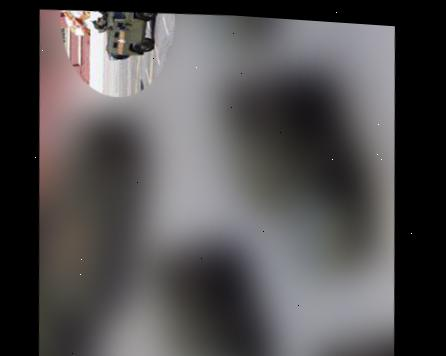truck: (101, 9, 157, 64)
